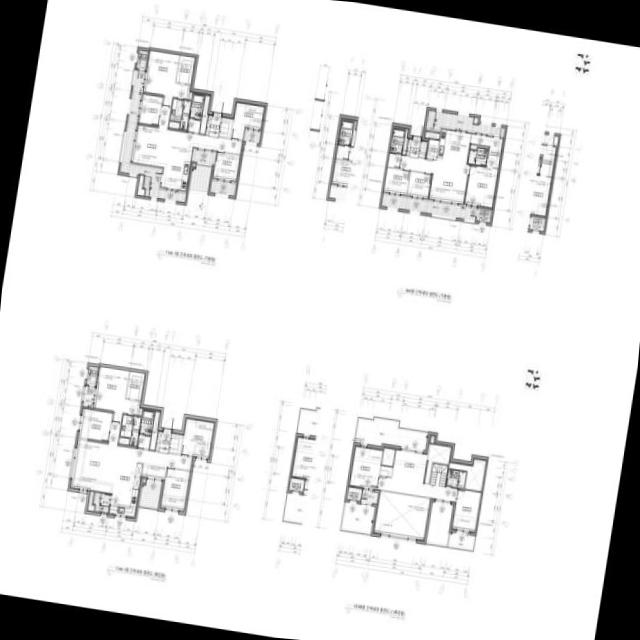background: (0, 0, 640, 640)
space_balconi: (119, 69, 185, 201), (381, 193, 476, 220), (355, 418, 427, 449), (425, 109, 504, 135), (341, 501, 374, 532), (188, 164, 211, 192), (138, 480, 160, 508), (448, 531, 473, 548), (209, 180, 235, 195), (92, 491, 110, 512), (192, 149, 213, 164), (82, 385, 94, 407), (360, 489, 378, 503), (244, 129, 260, 143)
space_bedroom: (143, 50, 190, 106), (93, 366, 139, 422), (464, 164, 497, 207), (180, 417, 214, 458), (349, 446, 382, 488), (230, 101, 264, 139), (160, 467, 190, 510), (451, 488, 480, 531), (78, 408, 111, 441), (212, 151, 240, 181), (137, 93, 161, 125), (383, 167, 409, 194), (406, 171, 430, 197)
space_dressroom: (470, 133, 502, 169), (175, 55, 195, 84), (125, 371, 144, 399)
space_front: (205, 113, 221, 137), (155, 431, 171, 453), (405, 139, 420, 157)
space_kitchen: (108, 459, 142, 516), (160, 144, 191, 190), (436, 129, 470, 164)
space_living_room: (70, 421, 192, 493), (130, 104, 242, 168), (377, 449, 457, 501), (399, 155, 468, 203)
space_other: (373, 490, 429, 539), (448, 458, 485, 490), (425, 501, 452, 544), (424, 443, 450, 482), (428, 462, 447, 486), (199, 95, 210, 133), (149, 411, 160, 449), (141, 462, 165, 479), (218, 116, 232, 137), (168, 433, 182, 453), (426, 138, 438, 159), (381, 447, 394, 465), (136, 434, 150, 448), (186, 118, 200, 132), (387, 153, 400, 167), (86, 491, 94, 511), (136, 175, 144, 195), (418, 140, 426, 157), (379, 465, 391, 476), (402, 128, 407, 154), (424, 131, 439, 138), (470, 144, 488, 149), (168, 121, 179, 128), (188, 90, 192, 99), (430, 435, 434, 442), (138, 407, 141, 415), (142, 478, 144, 482), (192, 163, 194, 166)
space_outdoor_room: (85, 365, 97, 385), (135, 49, 147, 69), (475, 207, 491, 222), (346, 486, 361, 500)
space_toilet: (118, 414, 140, 445), (169, 98, 190, 129), (389, 128, 404, 153), (445, 469, 465, 487), (467, 147, 487, 165), (139, 409, 153, 434), (189, 93, 203, 118)
